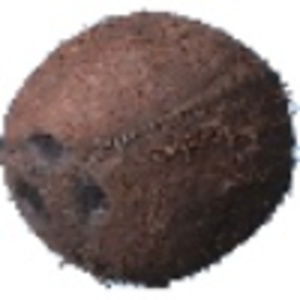coco: (1, 11, 300, 290)
